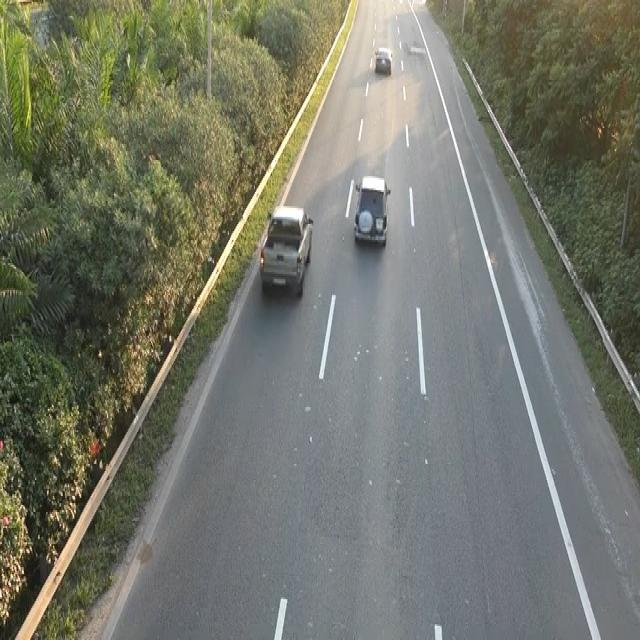car: (257, 201, 314, 297), (352, 173, 391, 247)
